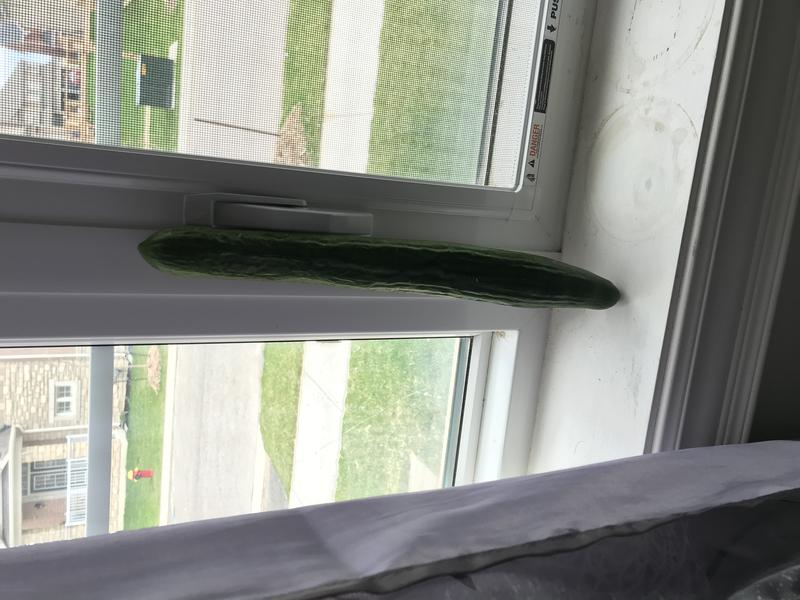cucumber: (126, 218, 632, 332)
